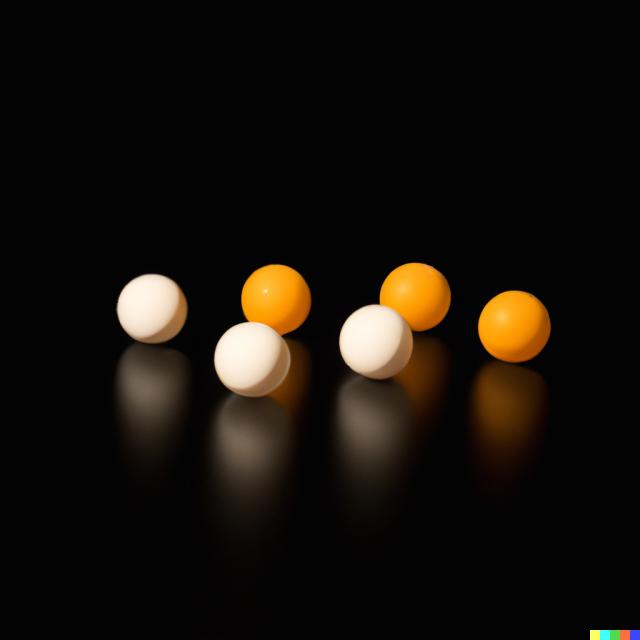orange-golf-balls: (479, 290, 551, 362), (243, 264, 311, 334), (379, 264, 451, 330)
white-golf-balls: (216, 323, 292, 398), (338, 304, 413, 380), (117, 273, 189, 344)
